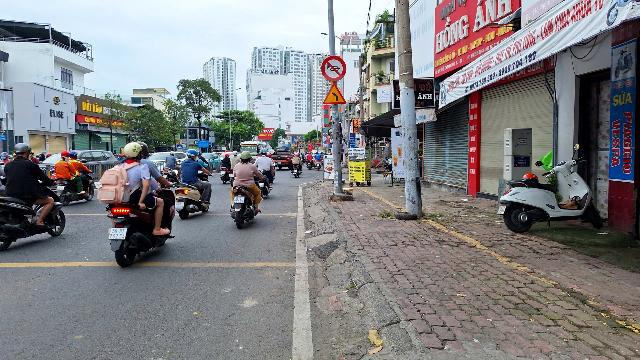cam-bop-coi: (320, 55, 347, 82)
cho-ngoat-nguy-hiem-ben-trai: (323, 83, 347, 104)
